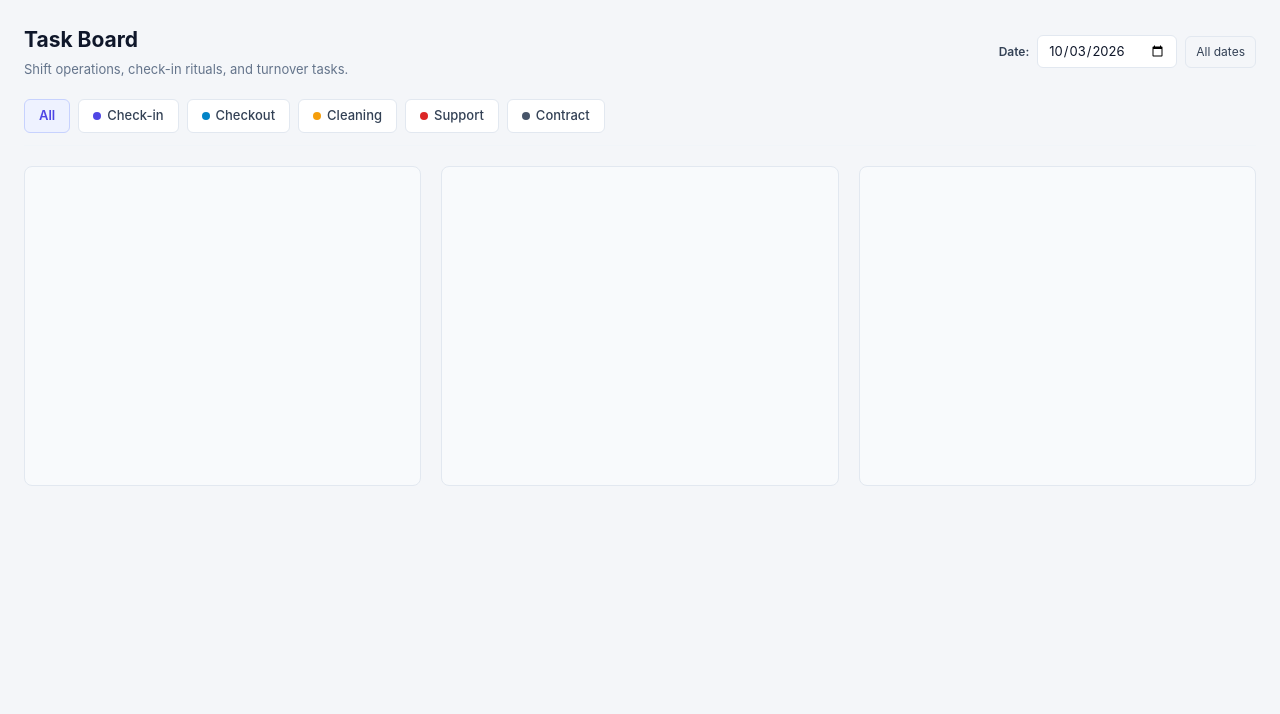
Scenario: Story 3.2: Kanban Task Board › filters tasks by type and updates column header counts accordingly
This screenshot has width=1280, height=714.
Click the button with test id "all-dates-btn". click: (1221, 52)
box: [1185,36,1256,68]
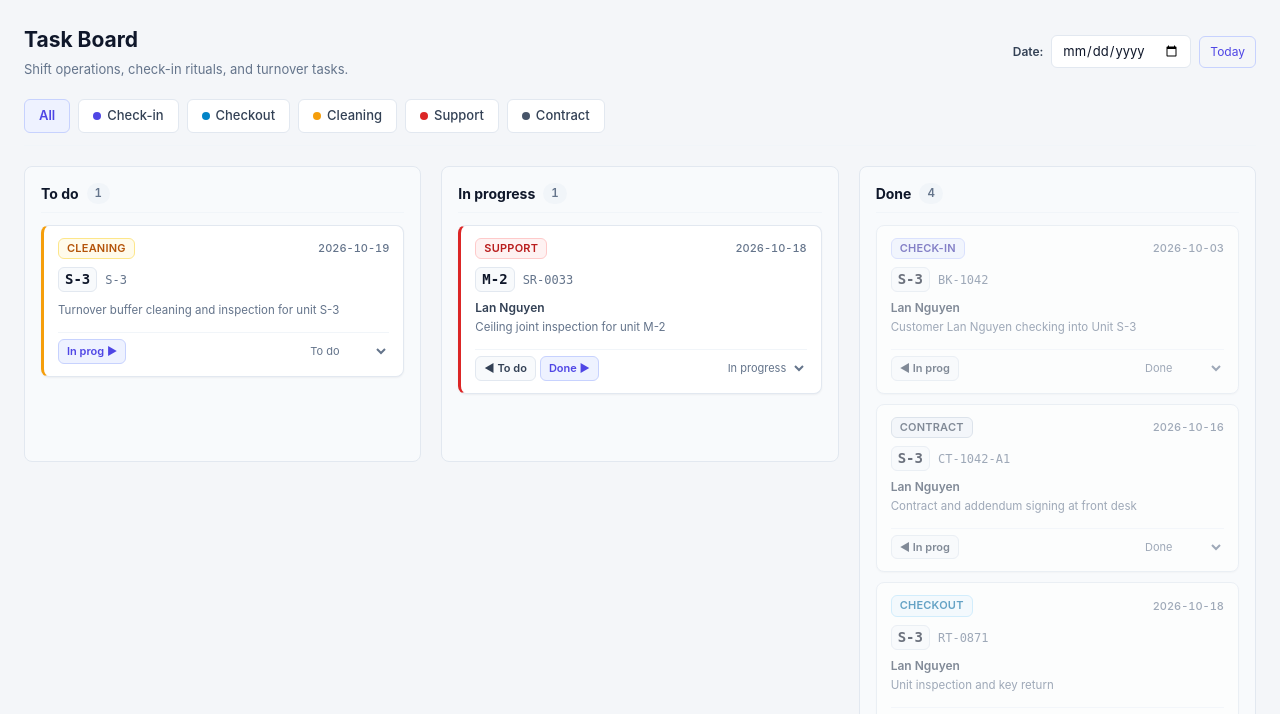
expect the element with test id "task-card-4" is shown: met, box [41,225,404,377]
Click on "Cleaning" filter tab
Click the tab with test id "filter-tab-cleaning". click: (348, 116)
box: [298,99,397,132]
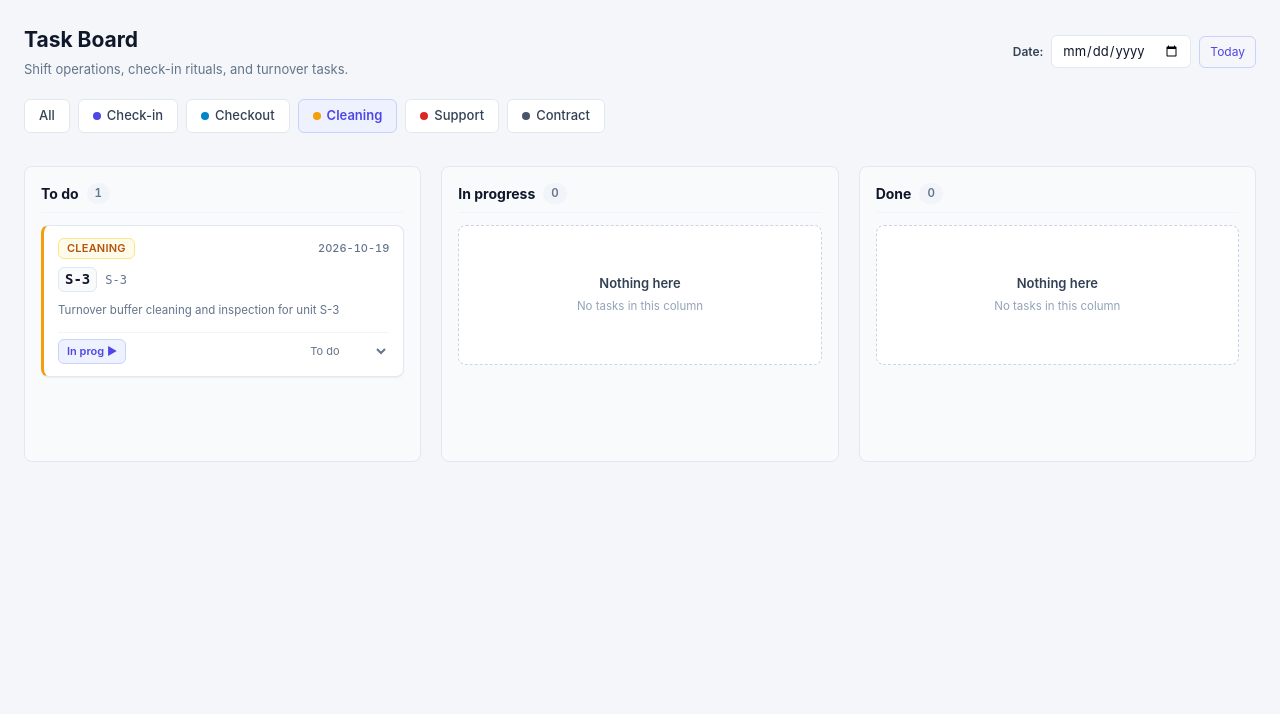
expect the element with test id "task-card-4" is shown: met, box [41,225,404,377]
expect the element with test id "task-card-1" is gone: met
expect the element with test id "task-card-6" is gone: met
